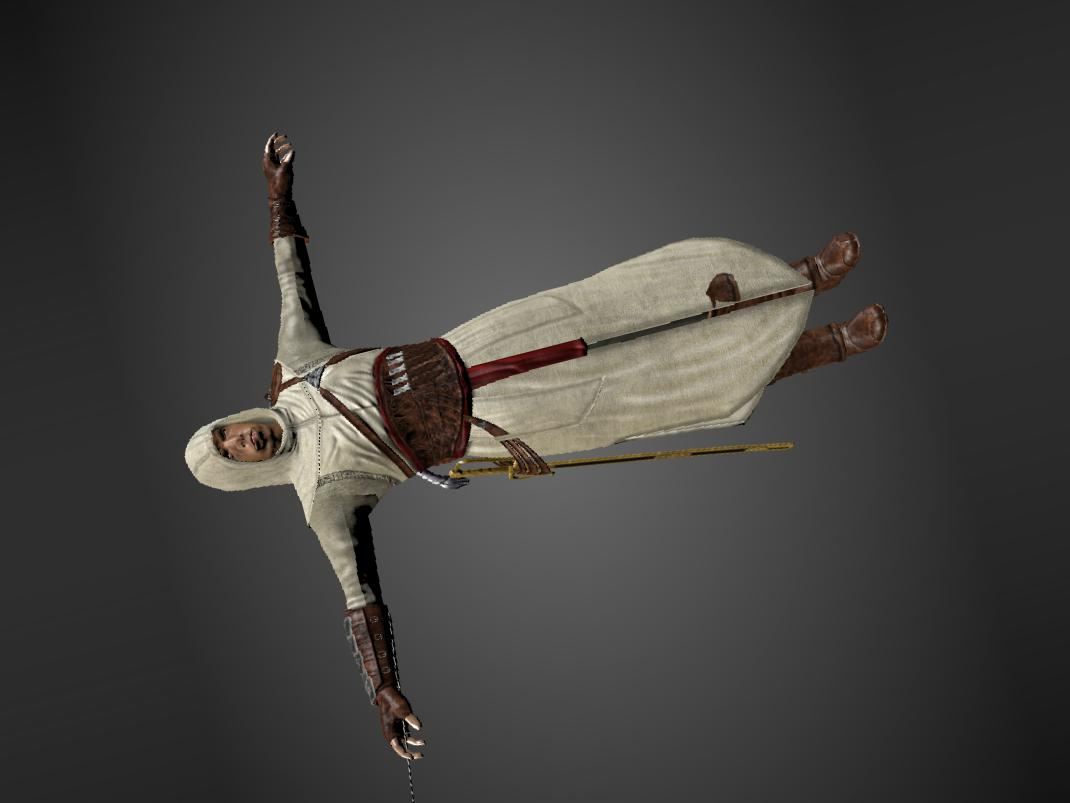clip: (705, 272, 742, 300)
